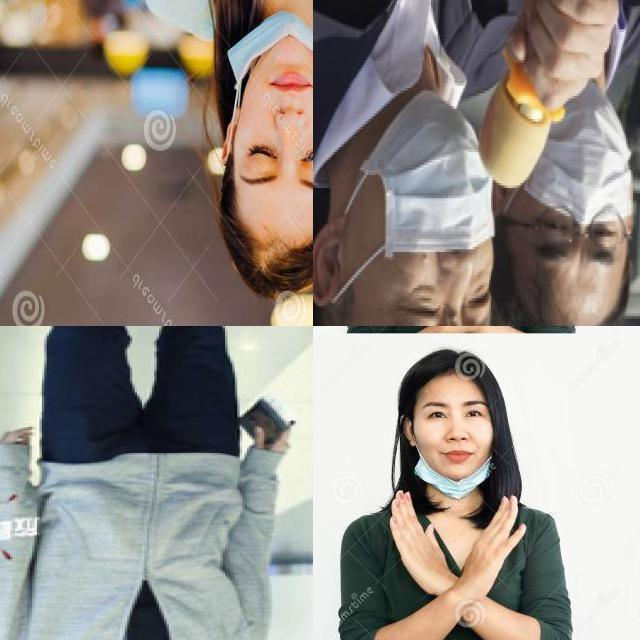hairnet: (385, 93, 494, 325), (235, 12, 312, 198), (406, 404, 496, 499)
mask: (518, 76, 639, 221)
no_apron: (455, 492, 529, 620), (384, 489, 458, 602)
no_gloves: (220, 171, 316, 305), (398, 347, 504, 412)
